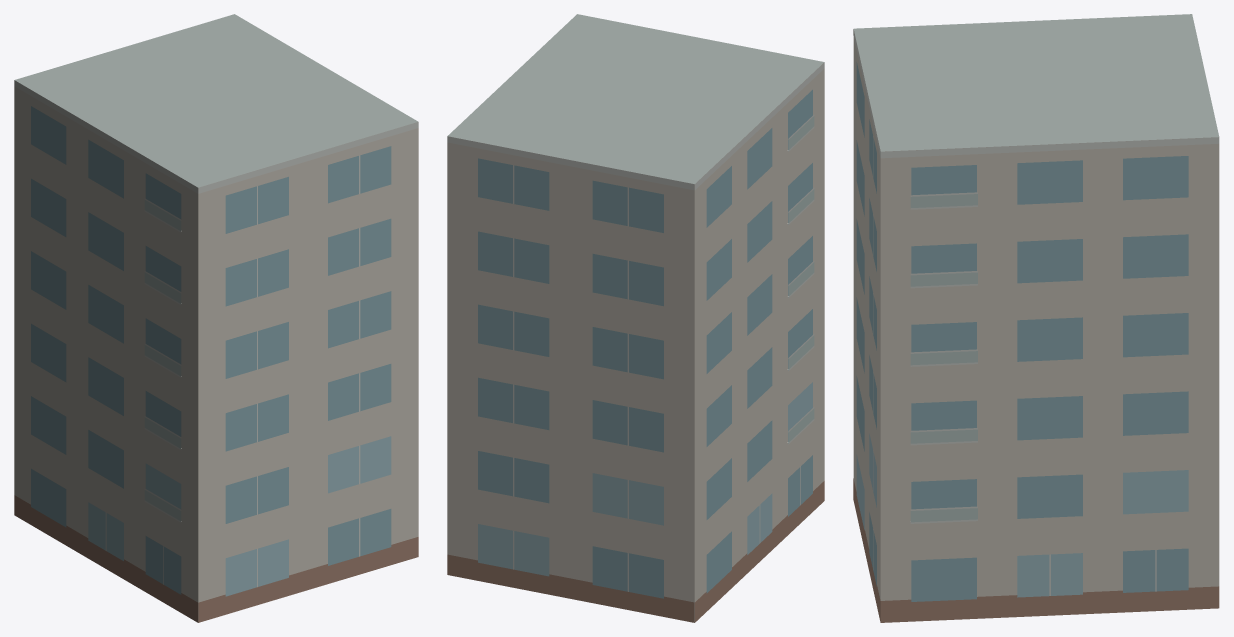
Rendered from survey-upis-32670634.glb.
3 renders of one model, left to right at view 1: azimuth 30°, elevation 25°; view 2: azimuth 150°, elevation 25°; view 3: azimuth 270°, elevation 25°, orthographic. The views are drawn at different scales.
Visible parts, largest first — view 1: survey-upis-32670634.tmp; view 2: survey-upis-32670634.tmp; view 3: survey-upis-32670634.tmp.
Part boxes in pixels (x1,y1,x2,y2): survey-upis-32670634.tmp: (14, 14, 418, 622); survey-upis-32670634.tmp: (447, 14, 824, 622); survey-upis-32670634.tmp: (853, 14, 1219, 622).
Bounding box in the file's own units: 10.78 × 17.2 × 12.11.
